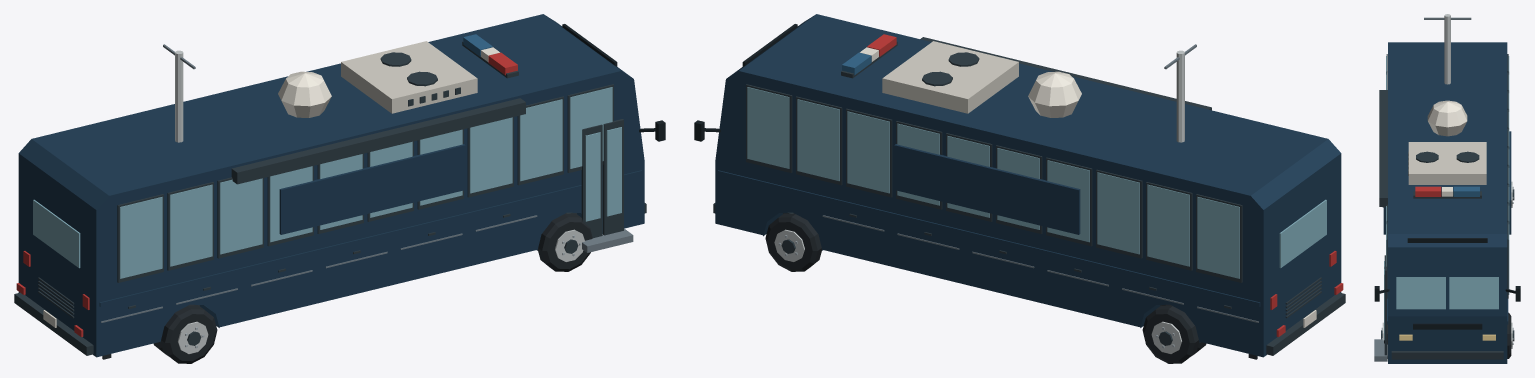
The model's file is b15_mobile_command_bus.glb.
3 views of the same model, side by side, from view 1: azimuth 30°, elevation 25°; view 2: azimuth 150°, elevation 25°; view 3: azimuth 270°, elevation 25° (orthographic). The views are drawn at different scales.
Parts seen in each view (by area): view 1: b15_mobile_command_bus; view 2: b15_mobile_command_bus; view 3: b15_mobile_command_bus.
Part boxes in pixels (<box>): b15_mobile_command_bus: <box>14,14,665,363</box>; b15_mobile_command_bus: <box>694,14,1345,363</box>; b15_mobile_command_bus: <box>1374,14,1520,363</box>.
Bounding box in the file's own units: 10.64 × 4.92 × 3.1.
